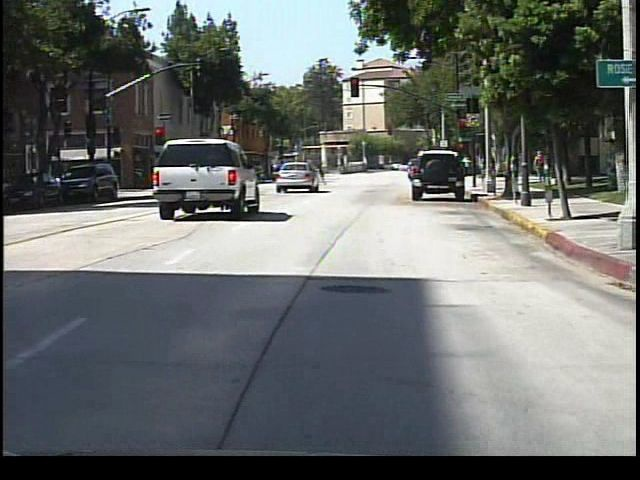person: (312, 157, 333, 190), (534, 149, 549, 187), (464, 154, 474, 178)
